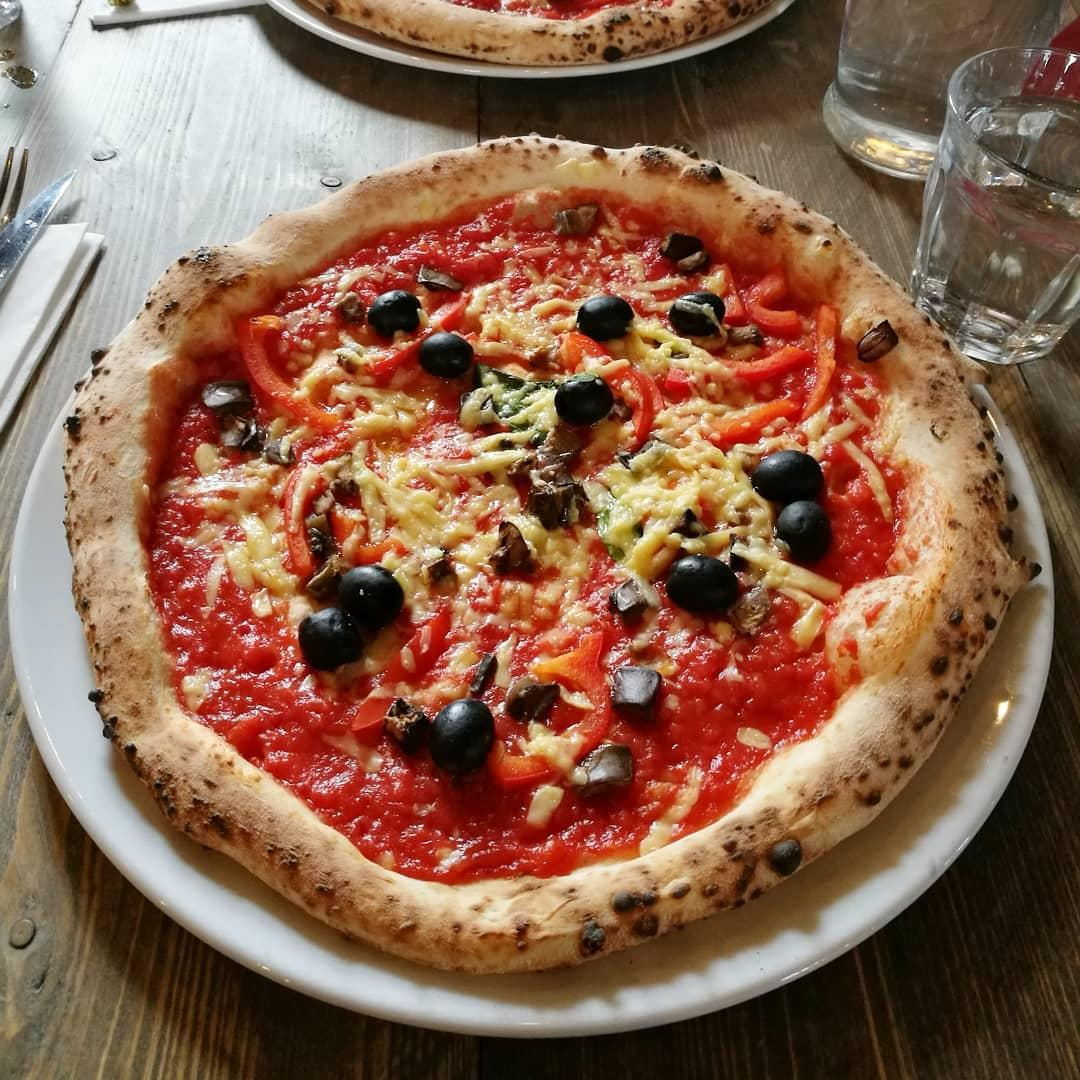Mushroom: (512, 454, 587, 532), (306, 475, 355, 559), (574, 740, 640, 798), (607, 654, 667, 717), (500, 671, 570, 721), (381, 694, 434, 758), (200, 371, 263, 416), (726, 584, 778, 635), (215, 409, 270, 457), (854, 317, 906, 365), (653, 228, 712, 269), (486, 518, 535, 567), (418, 543, 465, 586), (414, 260, 468, 294), (557, 202, 607, 237), (606, 575, 651, 612), (465, 646, 497, 698), (331, 284, 371, 324), (722, 322, 769, 346), (260, 431, 293, 465)
Olives: (661, 549, 752, 619), (332, 560, 411, 638), (425, 697, 498, 773), (295, 606, 367, 676), (750, 447, 828, 507), (770, 497, 837, 565), (414, 325, 483, 389), (554, 367, 616, 433), (361, 284, 429, 343), (665, 289, 731, 339), (574, 287, 635, 341)
Peppers: (488, 625, 613, 795), (223, 305, 345, 440), (347, 594, 459, 732), (563, 329, 657, 455), (661, 332, 819, 394), (688, 390, 808, 447), (798, 303, 847, 427), (707, 269, 805, 330), (323, 503, 412, 566), (276, 456, 318, 581)
Pizza: (60, 118, 1028, 990), (285, 0, 807, 68)
